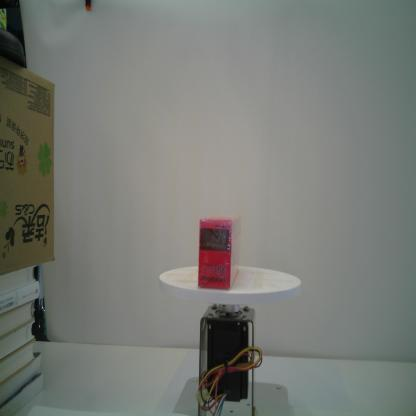Instant Drink: (197, 212, 242, 291)
